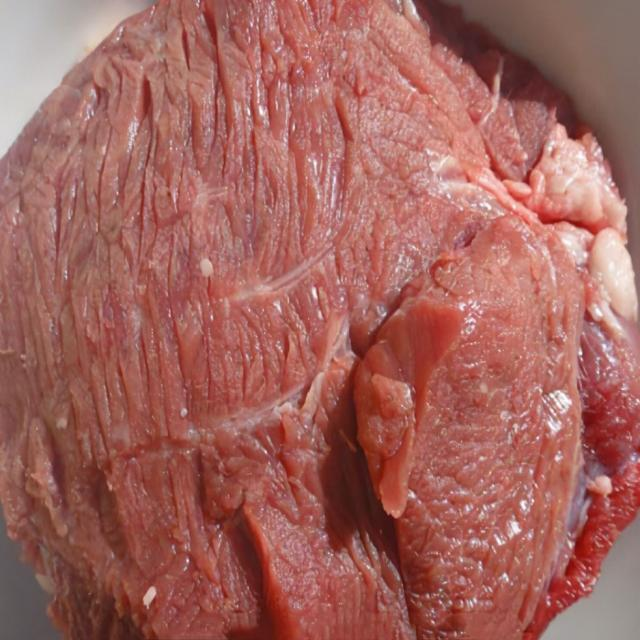Pork: (6, 0, 638, 640)
